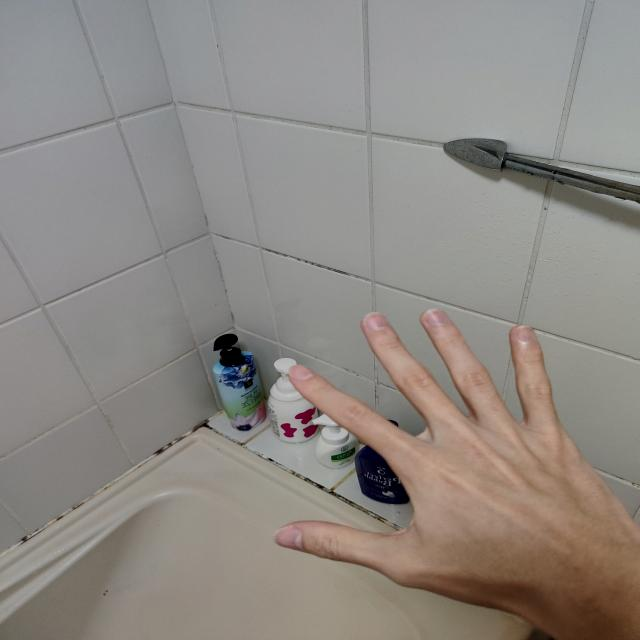no_glove: (262, 297, 639, 640)
